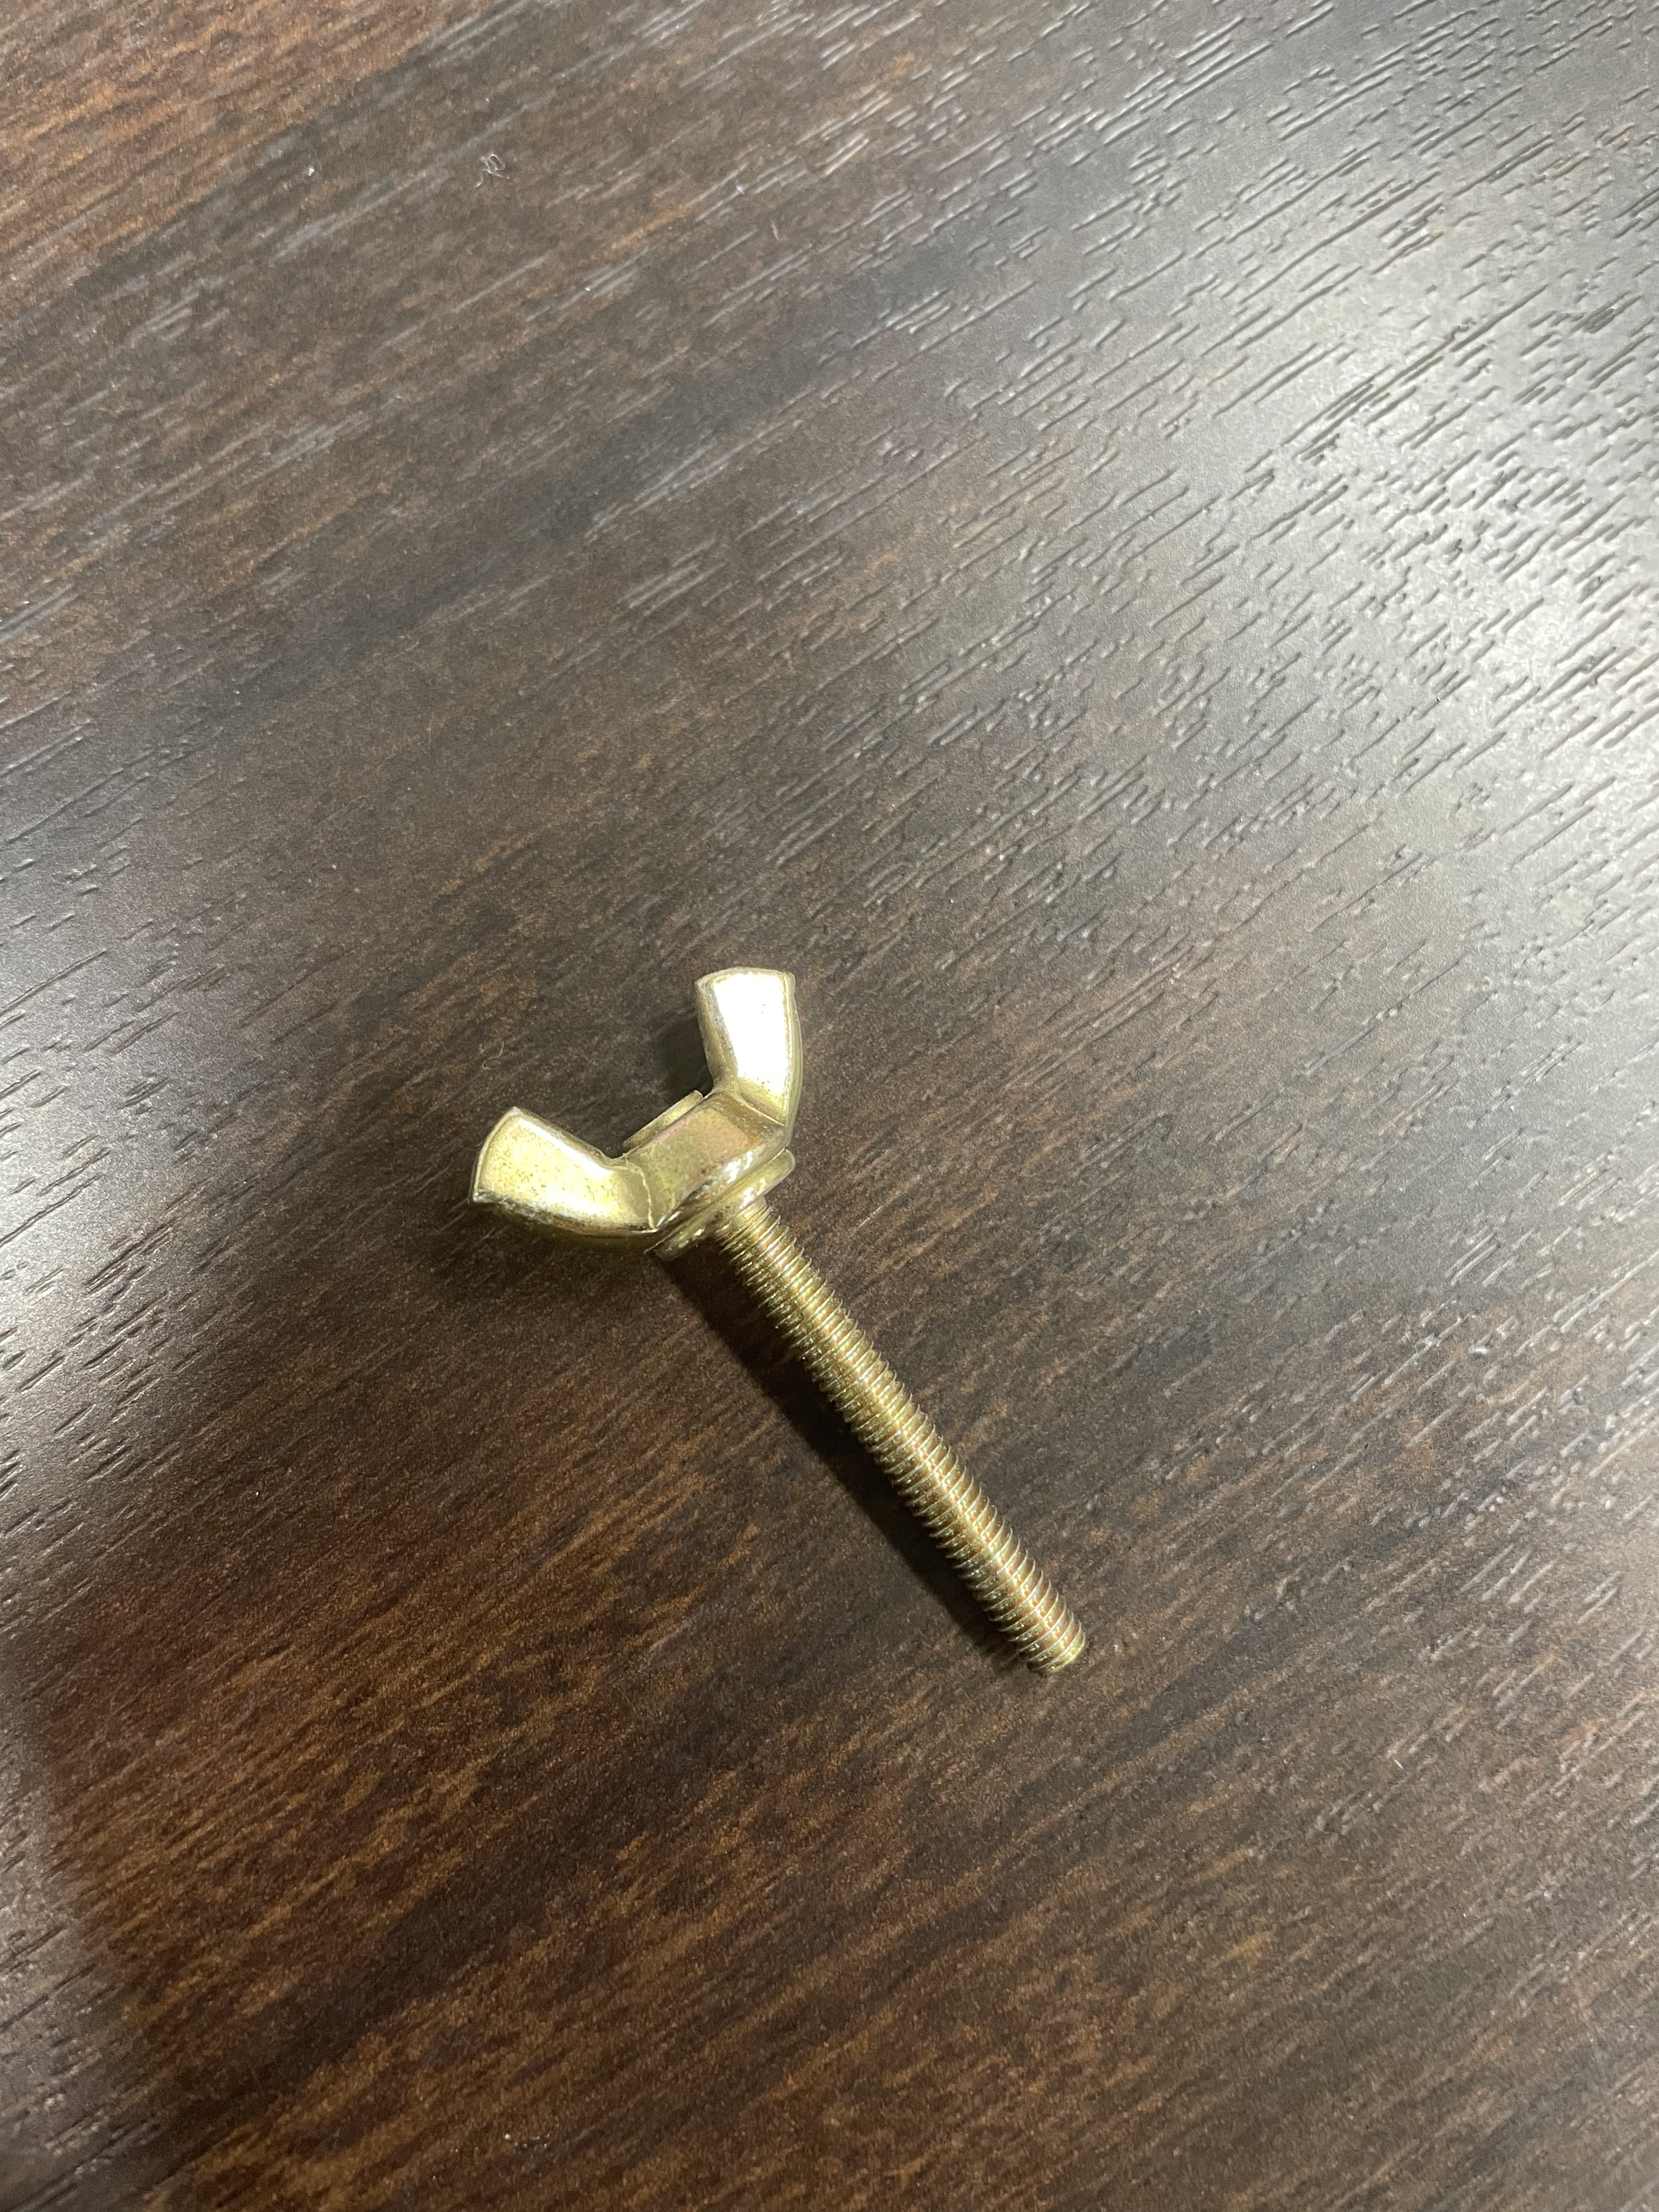screw0: (469, 962, 1092, 1681)
